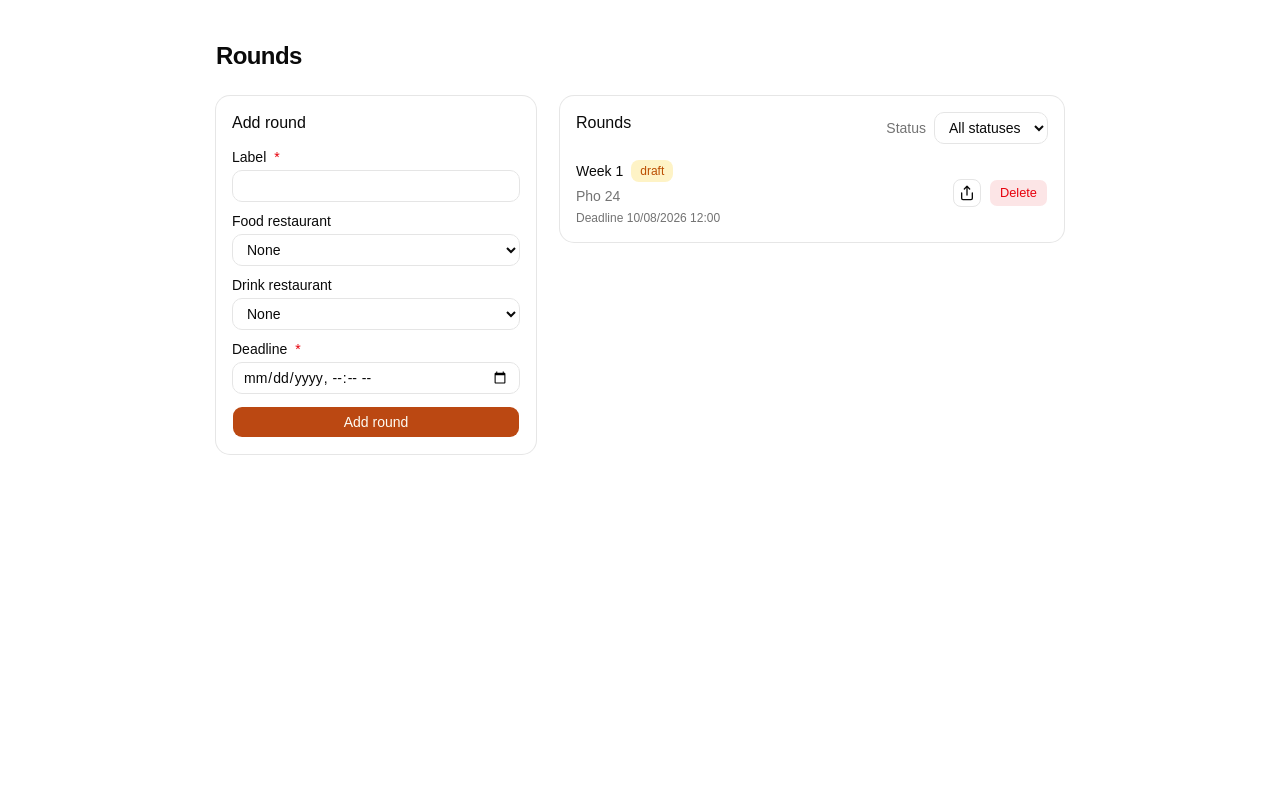
Test: Rounds › deletes a draft round via the confirmation dialog
Expected: the link "Week 1" is shown, top-left (576, 161), bottom-right (623, 181)
Click the button "Delete" at (1018, 193), box top-left (989, 179), bottom-right (1048, 207)
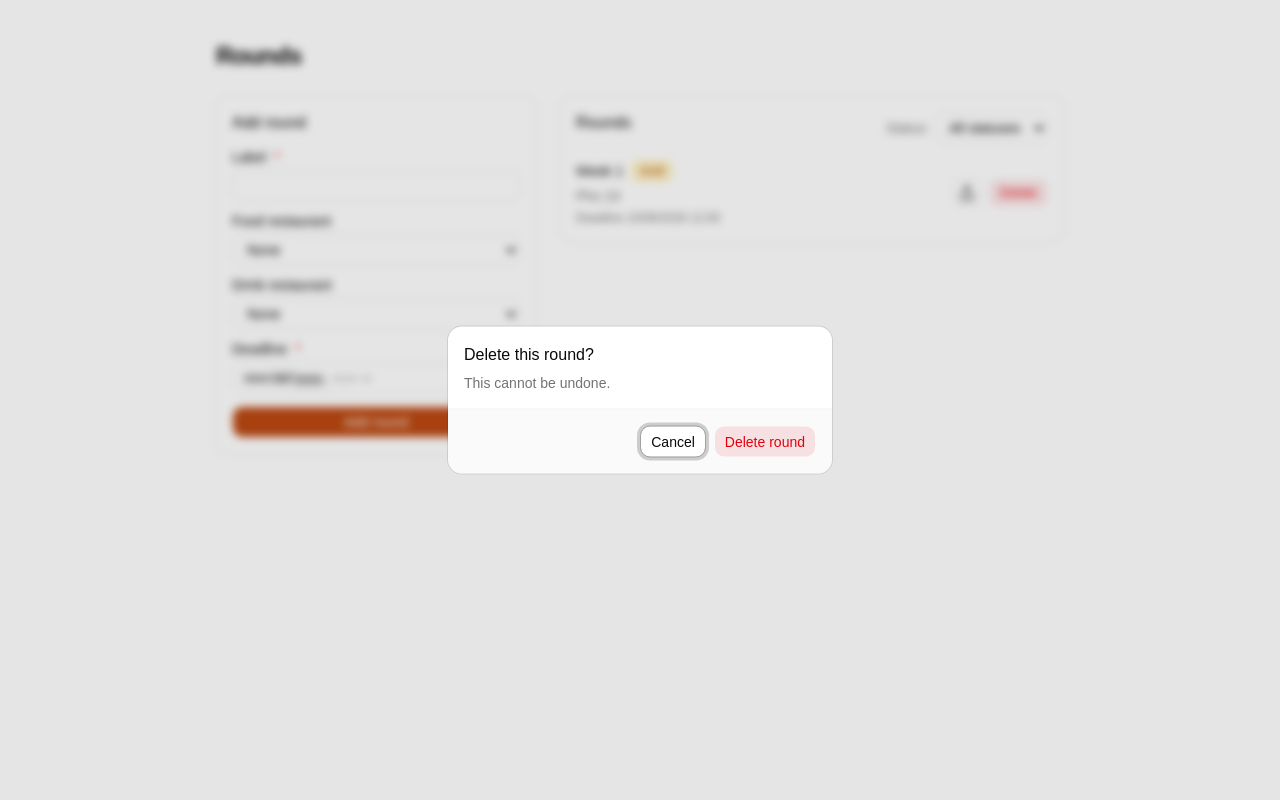
Result: the heading "Delete this round?" is shown at top-left (464, 342), bottom-right (594, 366)
Click the button "Delete round" at (765, 442), box top-left (714, 426), bottom-right (816, 458)
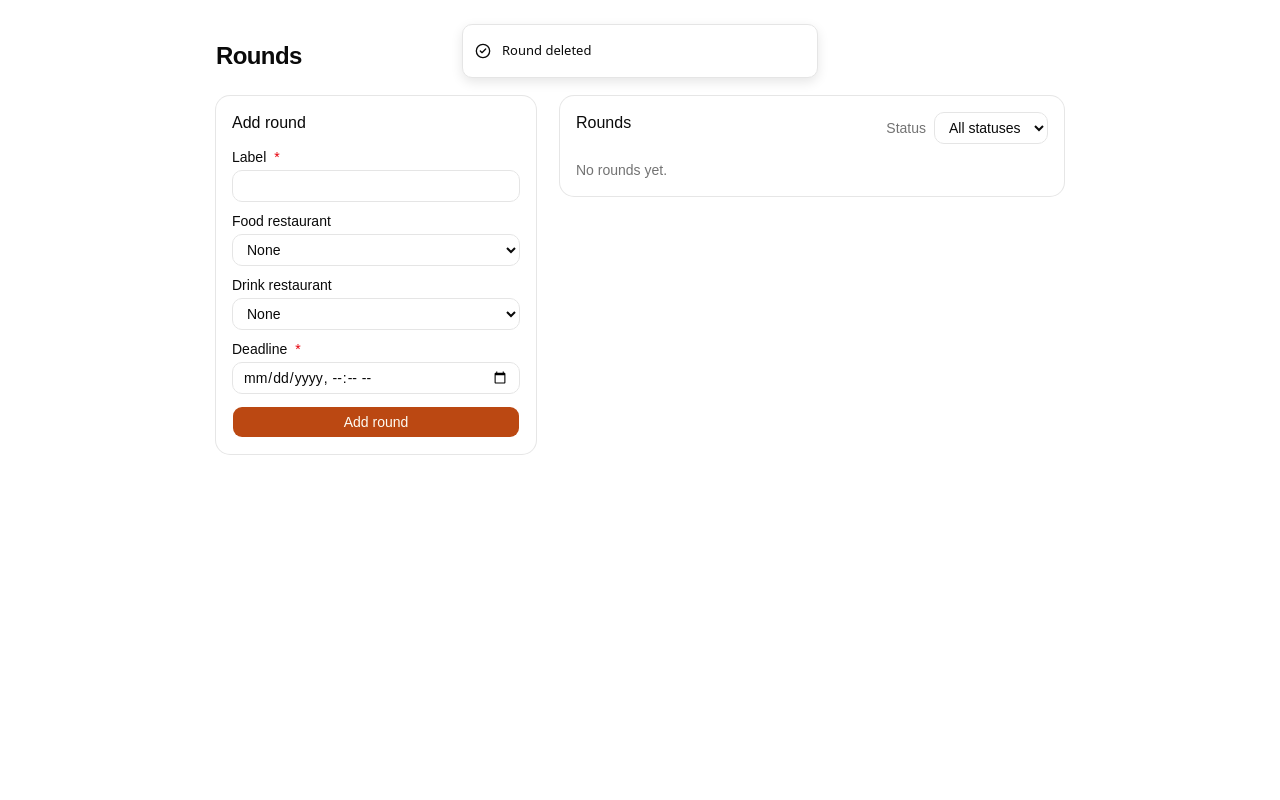
Result: the link "Week 1" is gone
Result: the text "Round deleted" is shown at top-left (502, 41), bottom-right (591, 60)
